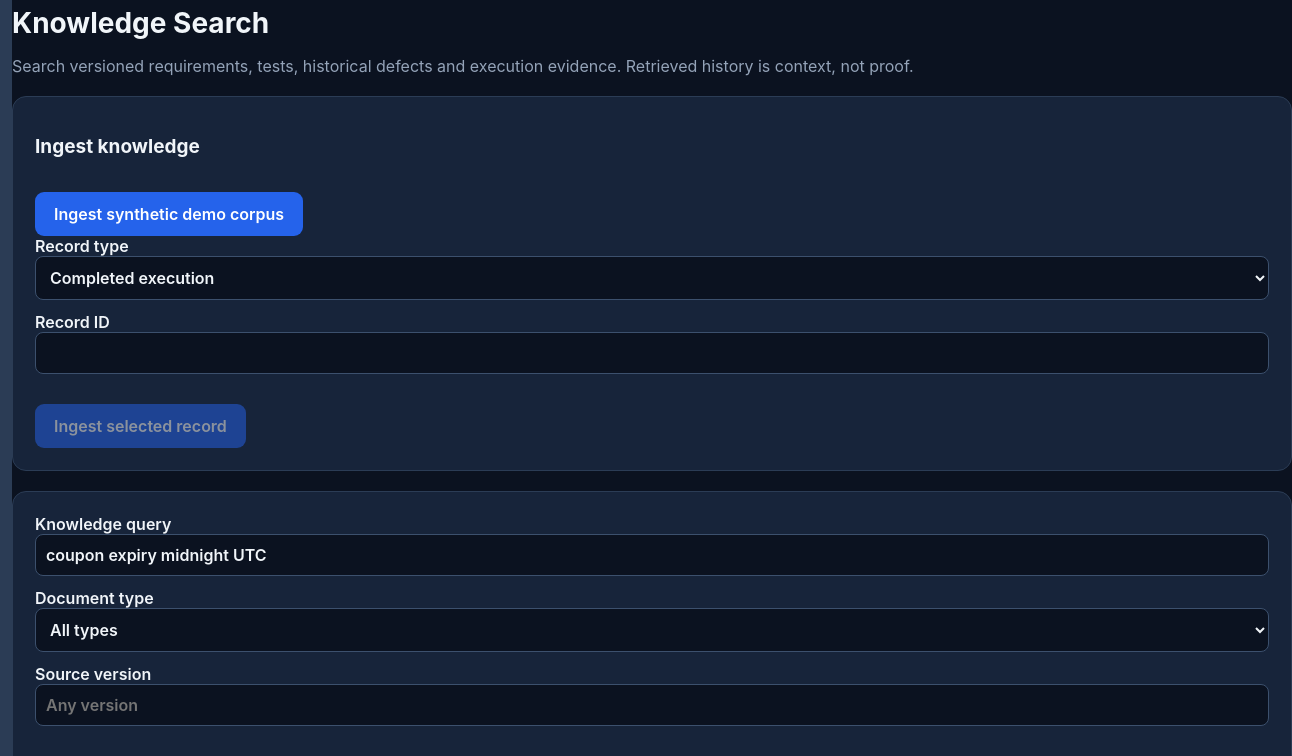
Test: knowledge search shows traceable source and version filters
This screenshot has width=1292, height=756.
Select "requirement" in the dropdown labelled "Document type". click: (652, 630)
box: x1=35 y1=608 x2=1269 y2=652
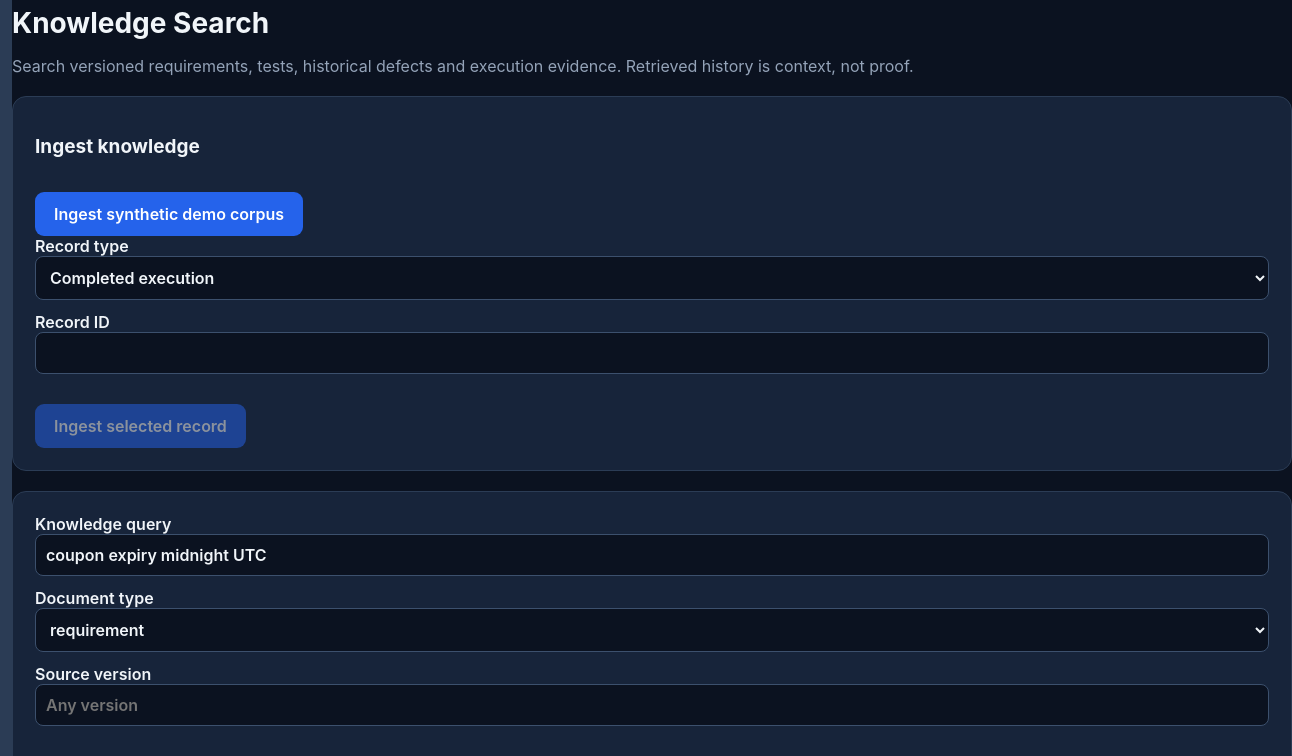
Type "commerce-v1" into the field labelled "Source version". click: (652, 704)
box: x1=35 y1=684 x2=1269 y2=726
(page scrolled)
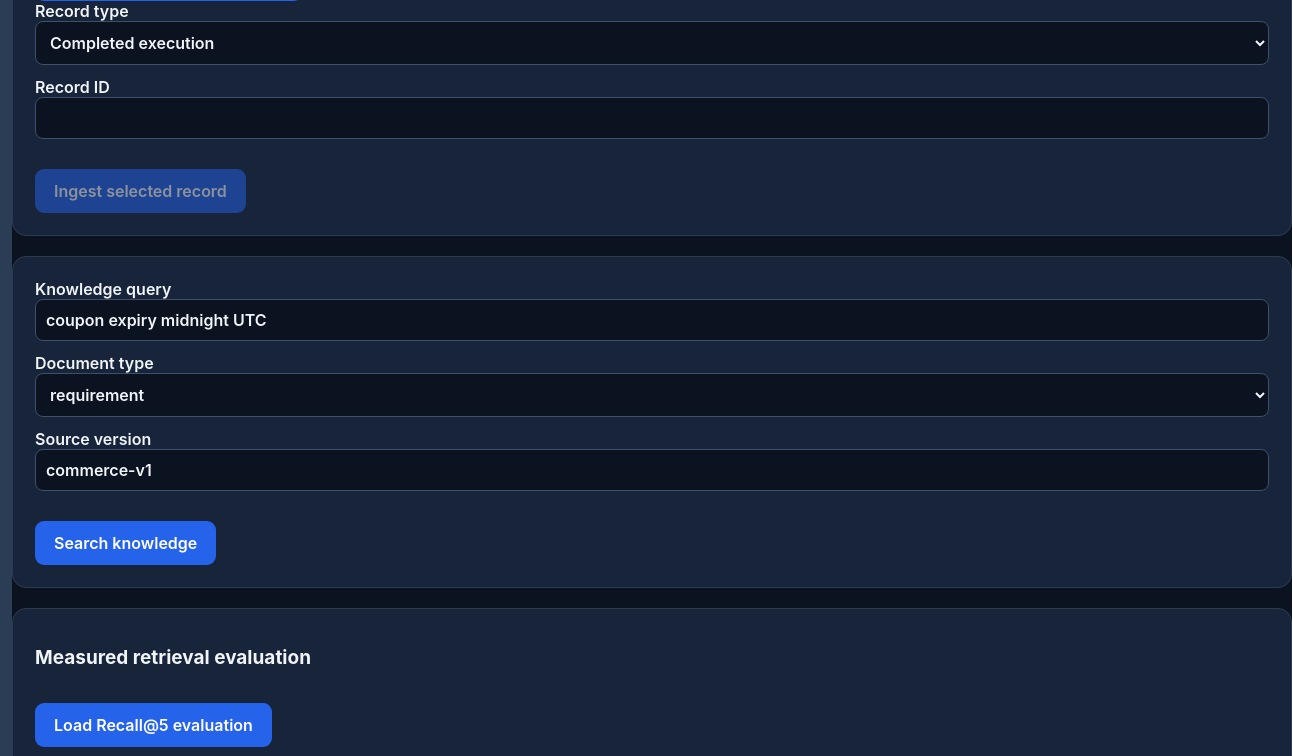
Click the button "Search knowledge". click: (126, 542)
box: x1=35 y1=520 x2=216 y2=564
(page scrolled)
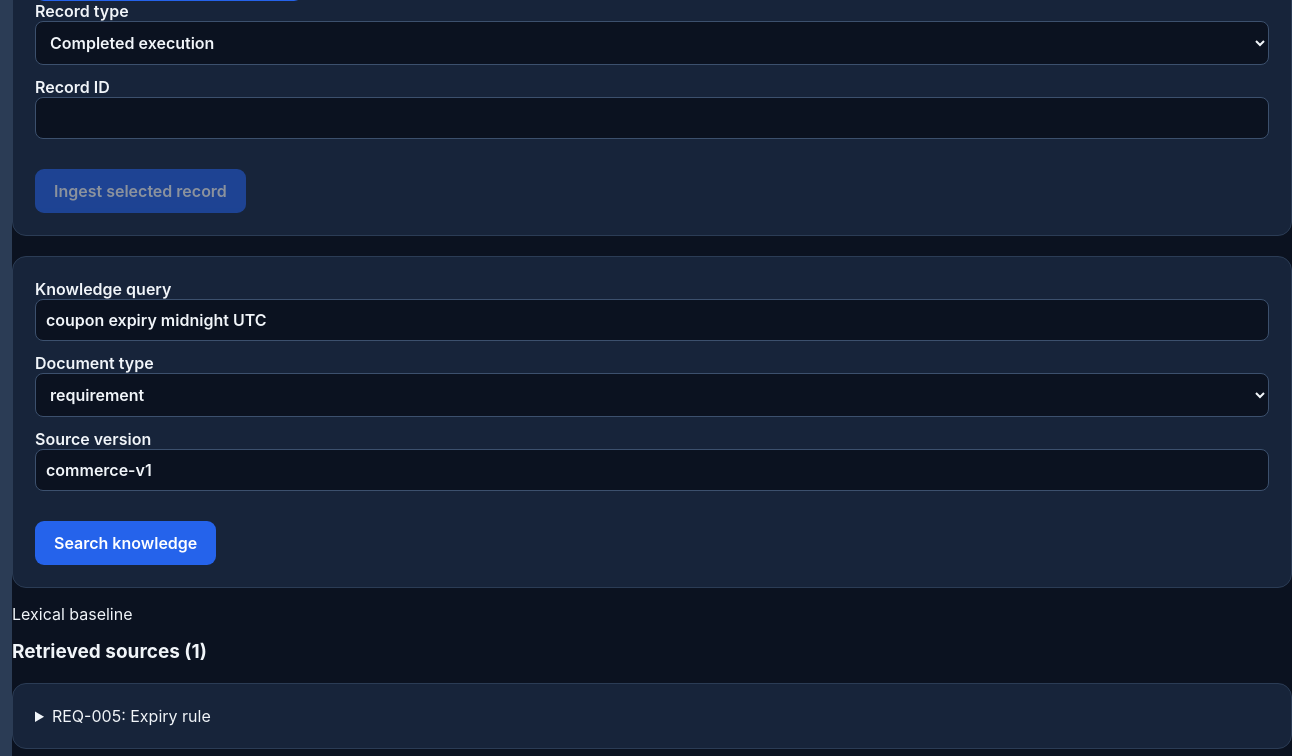
expect the heading "REQ-005: Expiry rule" is shown: met, box x1=52 y1=706 x2=211 y2=726
